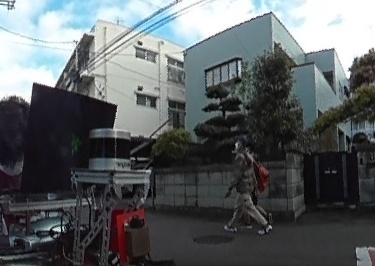person: (230, 134, 272, 235)
